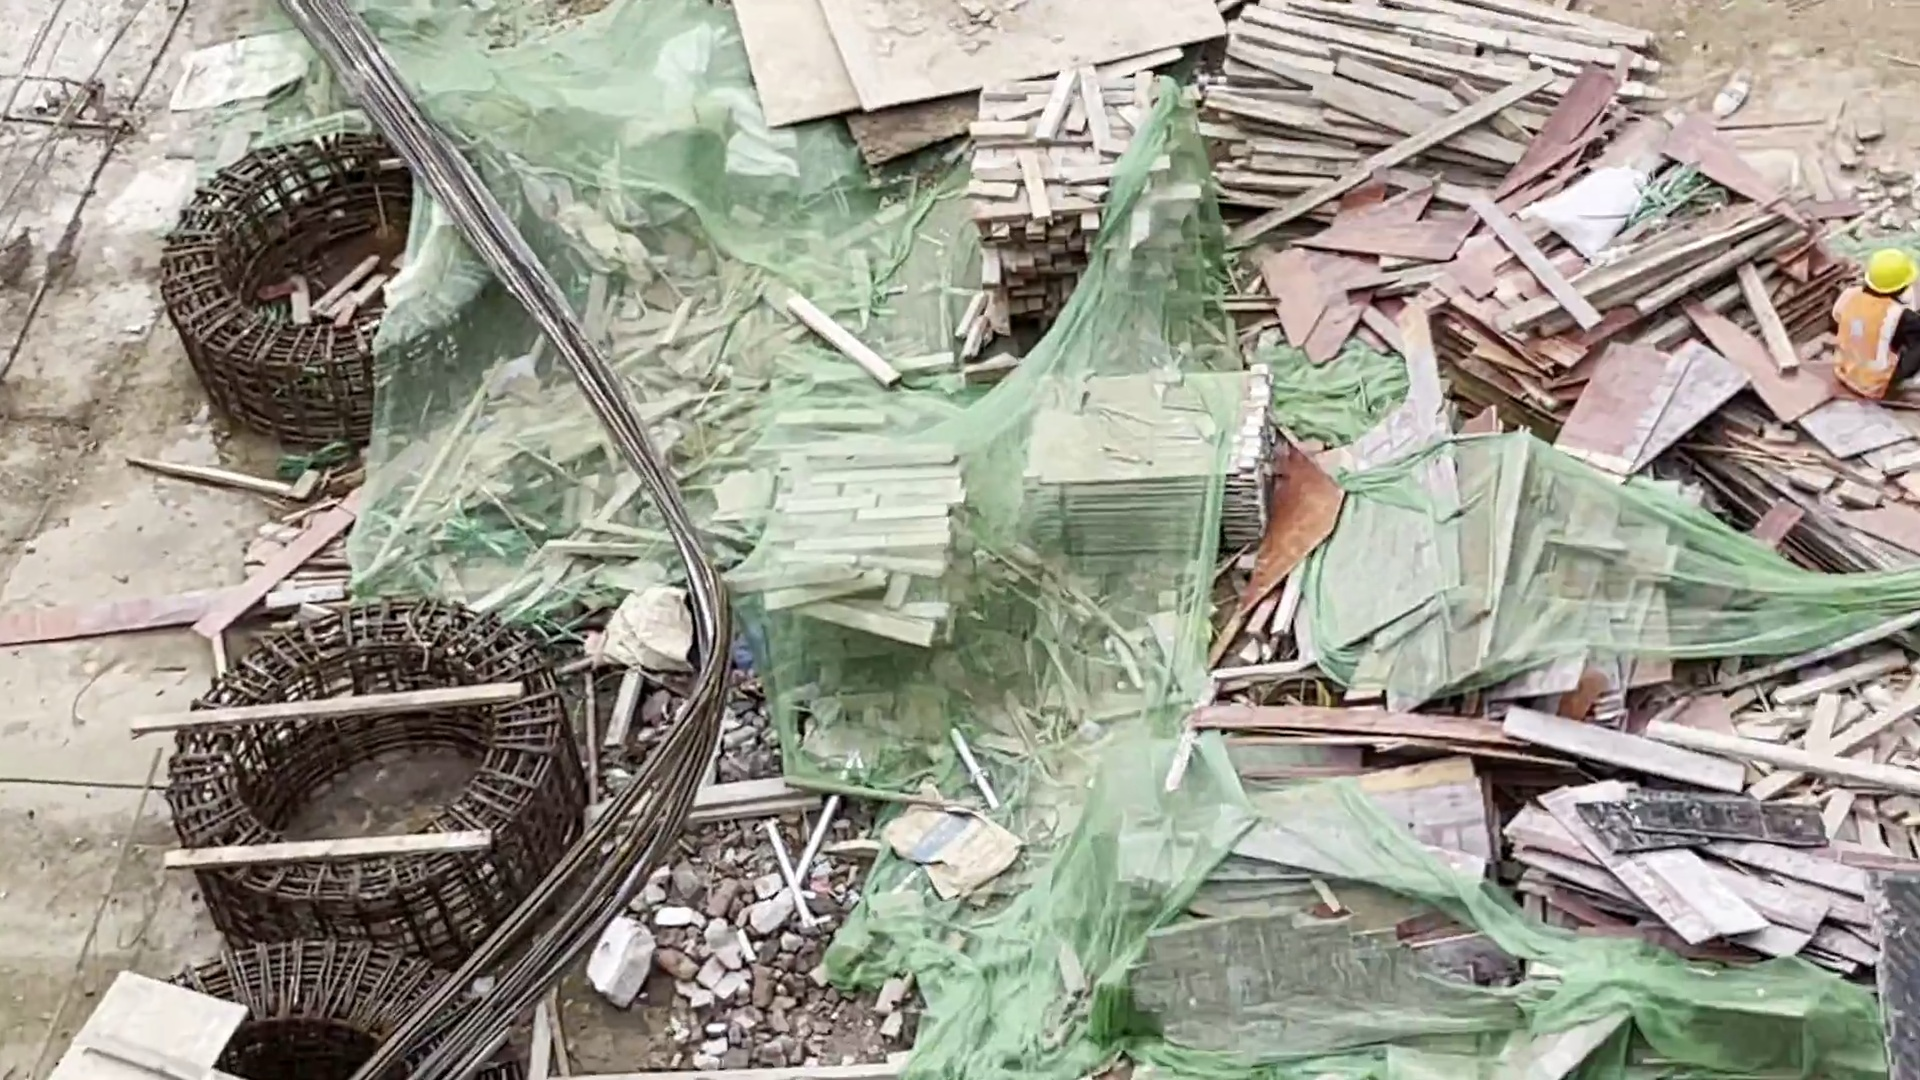board: (1038, 385, 1271, 542)
helmet: (1859, 249, 1914, 291)
person: (1826, 251, 1920, 395)
rebar: (276, 4, 714, 664), (356, 666, 732, 1075)
vest: (1833, 290, 1898, 401)
wood: (967, 80, 1149, 334), (781, 444, 952, 654)
